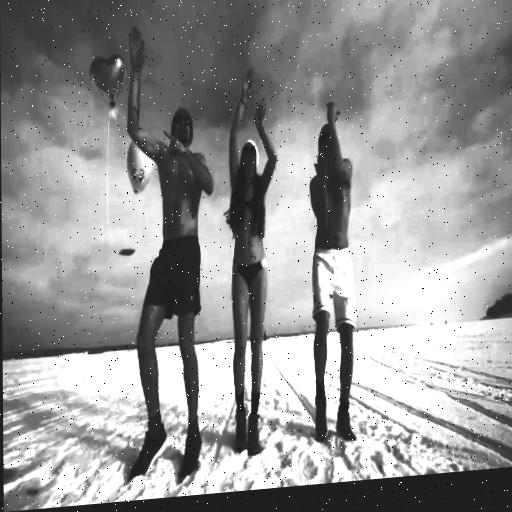balloon: (87, 55, 128, 104), (127, 135, 155, 195)
